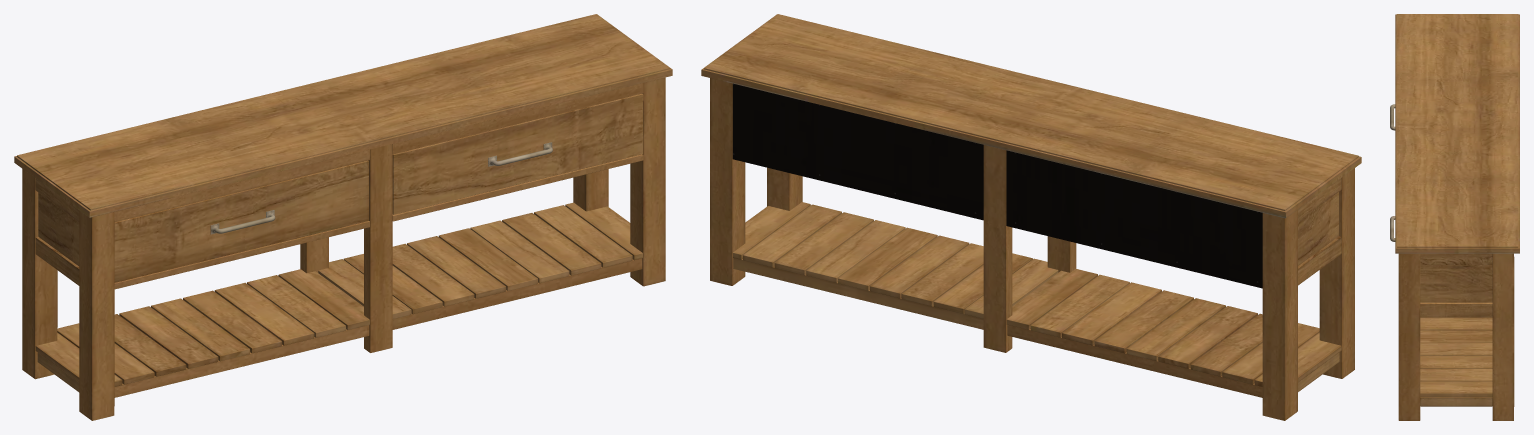
The model's file is abo-B074KMVDRS.glb.
3 views of the same model, side by side, from view 1: azimuth 30°, elevation 25°; view 2: azimuth 150°, elevation 25°; view 3: azimuth 270°, elevation 25° (orthographic). The views are drawn at different scales.
Size of the model in its own units: 1.82 by 0.635 by 0.425.
1 material, 1 textured.
